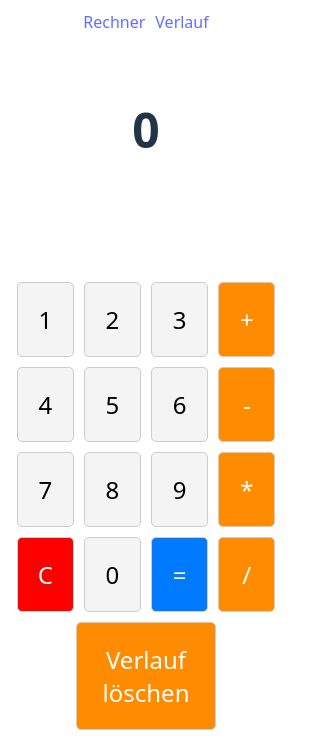
Test case: 3. Clear-Button setzt Anzeige zurück auf 0
Click the button "2".
click(112, 319)  # box x1=84 y1=282 x2=141 y2=357
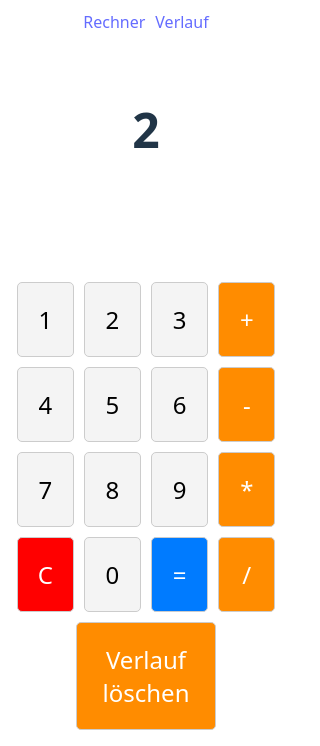
Click the button "C".
click(45, 574)  # box x1=17 y1=537 x2=74 y2=612
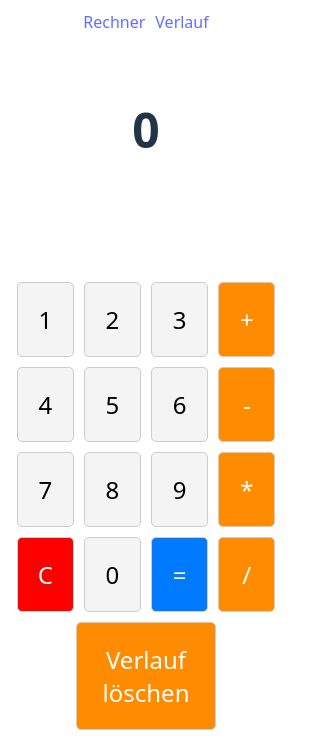
Check: the heading reads "0", box x1=132 y1=97 x2=160 y2=162
